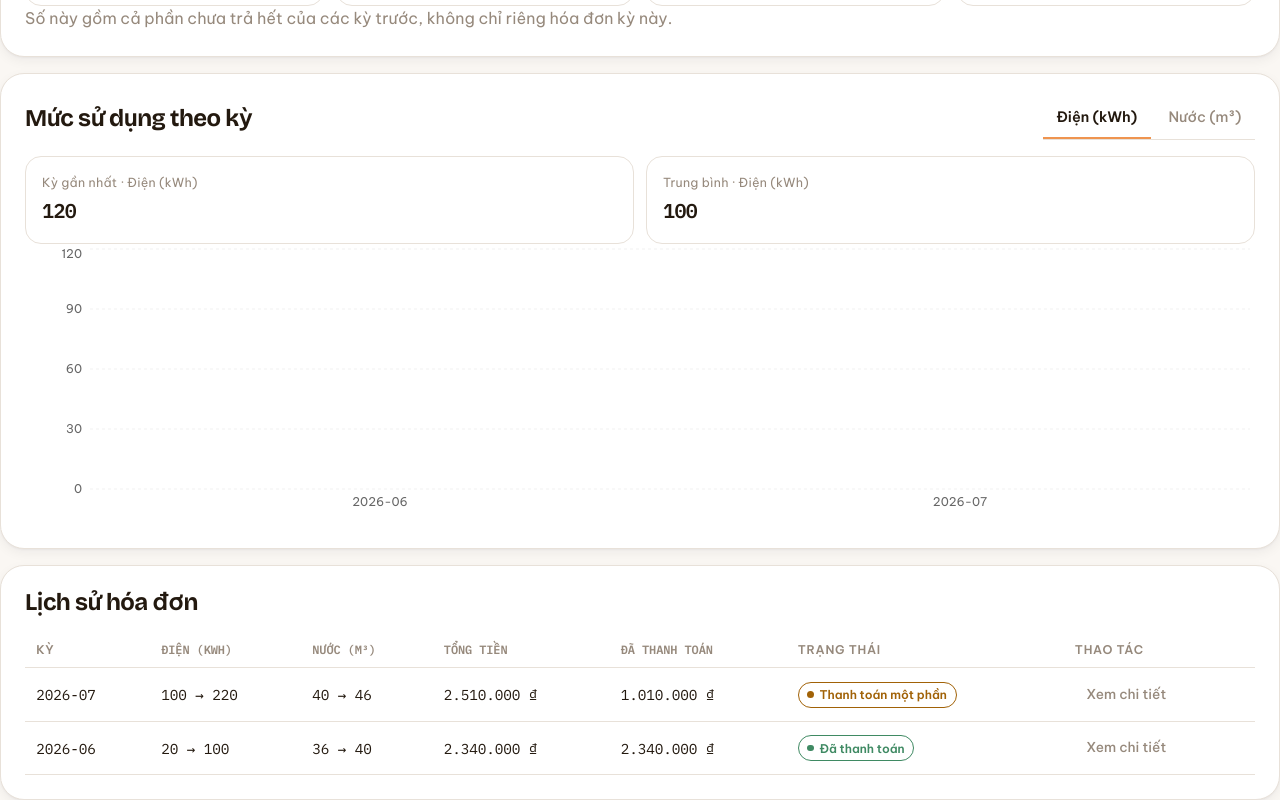
Test case: TenantPortal invoice history › opens a read-only detail modal listing the invoice lines
(page scrolled)
Expected: the heading "Lịch sử hóa đơn" is shown, [25, 590, 198, 616]
Expected: the table is shown, [25, 632, 1255, 775]
Click the button "Xem chi tiết" in the row of "100 → 220": point(1126, 695) [1075, 678, 1178, 711]
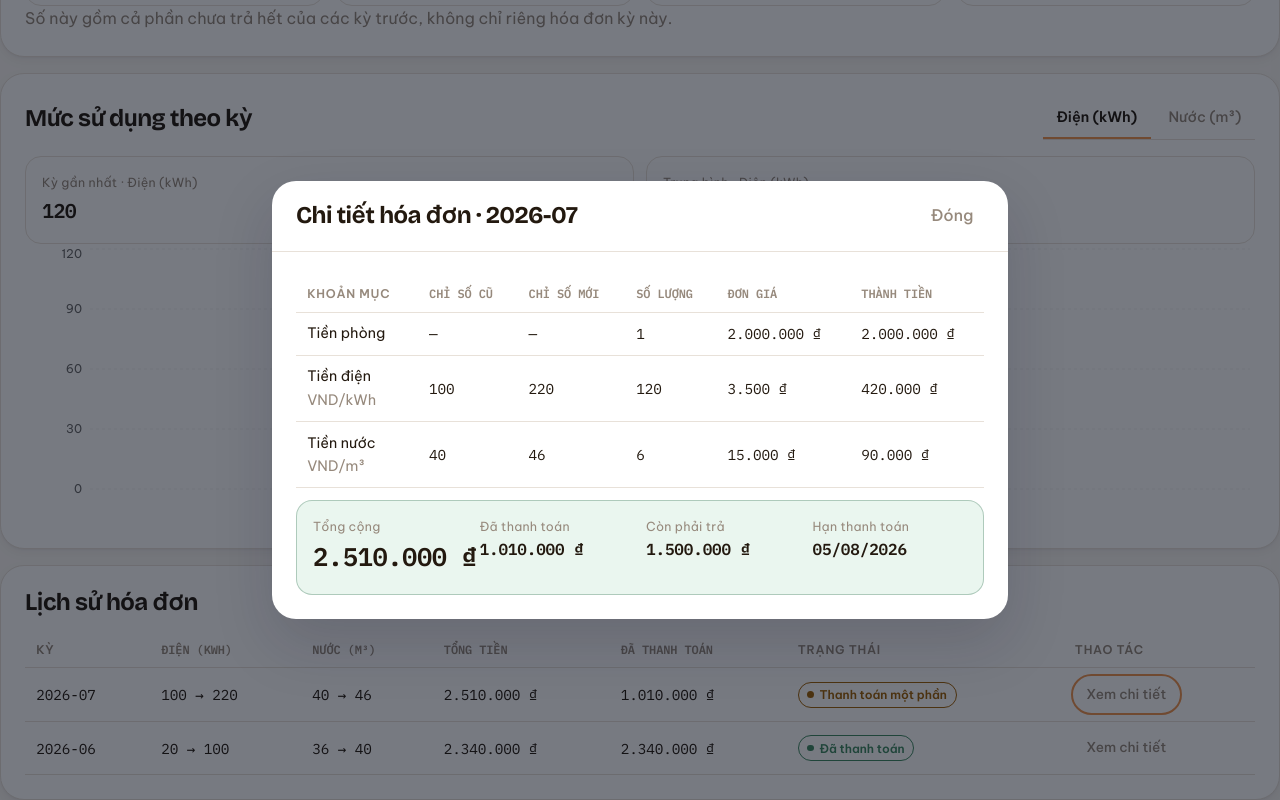
Result: the text "Tiền phòng" is shown at [296, 312, 418, 355]
Result: the text "Tiền điện" is shown at [307, 368, 371, 386]
Result: the text "Tiền nước" is shown at [307, 434, 376, 452]
